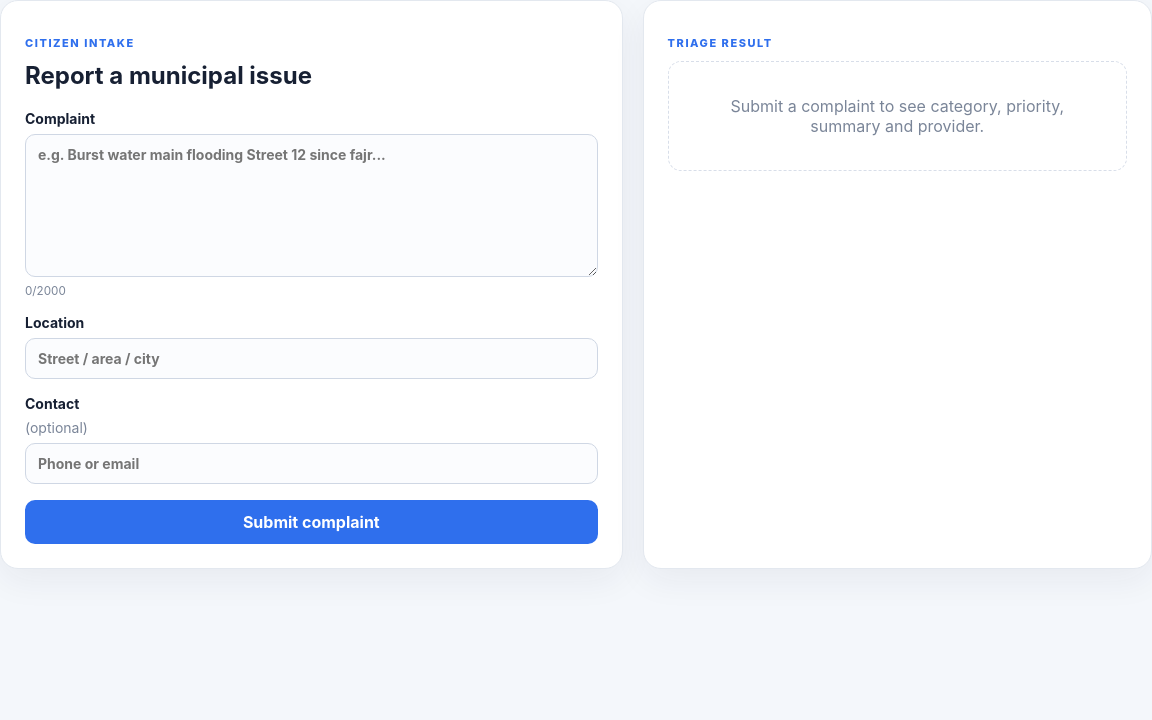
Test: client-side validation blocks too-short complaint
Type "short" into the text box labelled "Complaint 0/2000" at (311, 206), box [25,134,598,277]
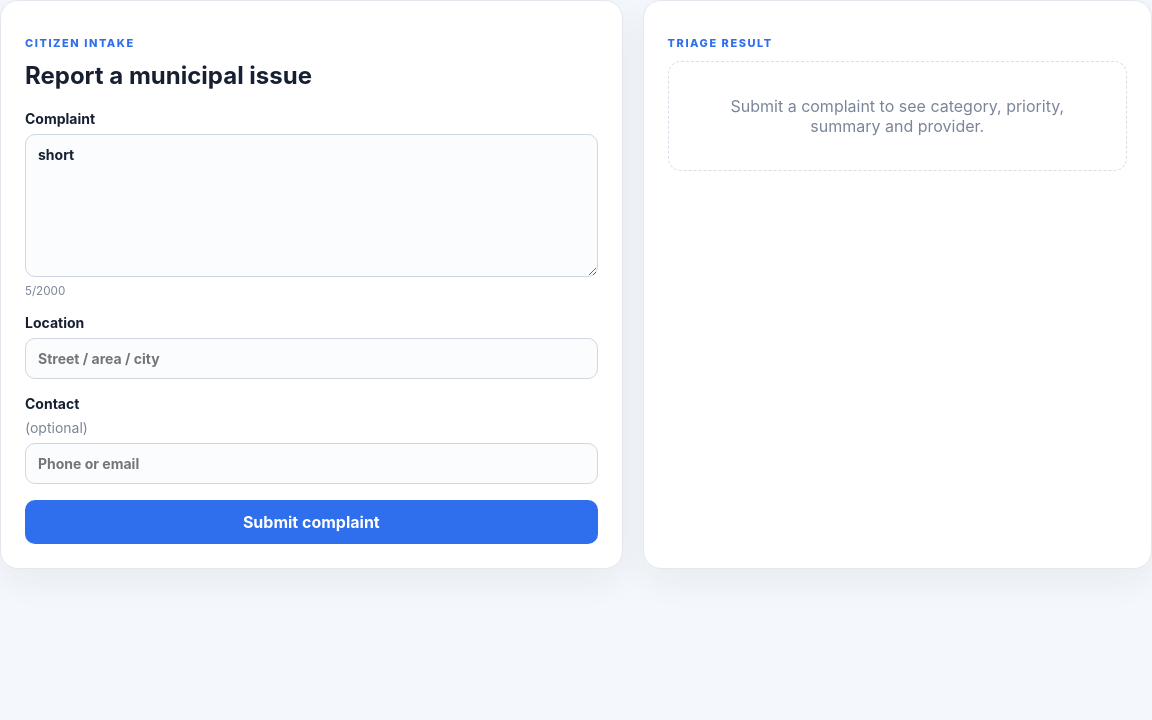
Type "Peshawar" into the field labelled "Location" at (311, 358), box [25,338,598,379]
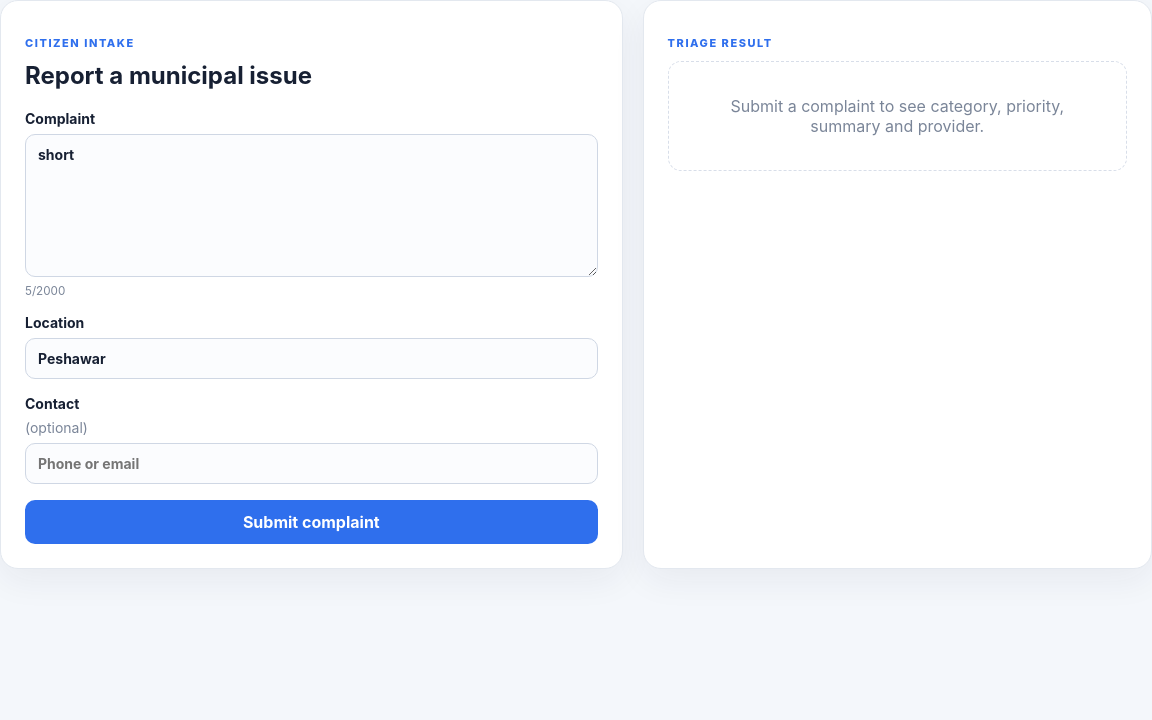
Click the button "Submit complaint" at (311, 522), box [25,500,598,544]
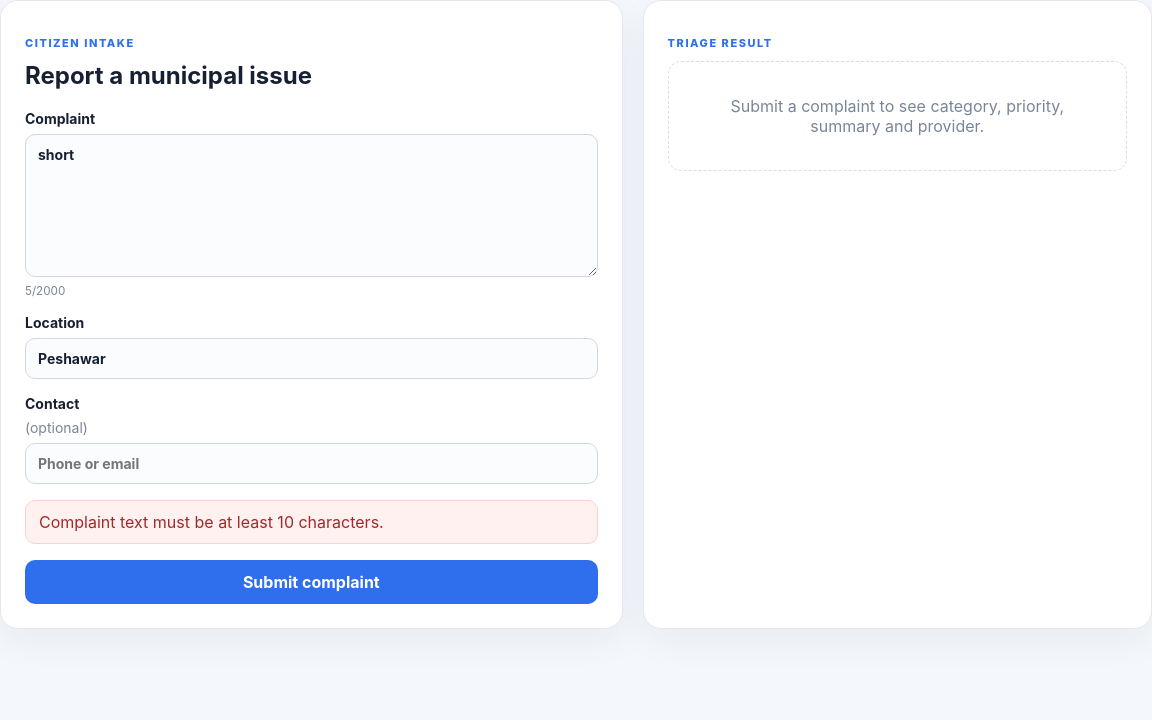
Expected: the message shows "at least 10 characters", [39,512,384,532]
